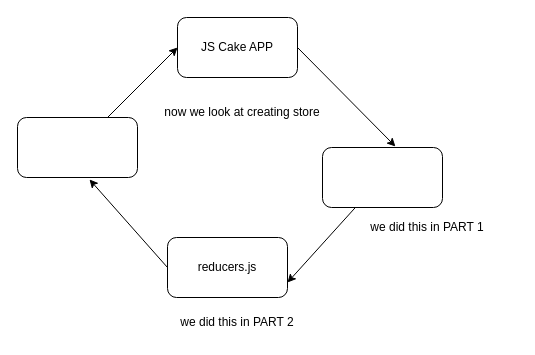
Some shapes in this 535 by 355 pixel diagram are drawn without their labels. The shapes that lost their labels are listed below. From the top down, each one's centre as x and y in pixels, then its label:
At [77,147]: "redux store.js".
At [382,177]: "actions.js".
